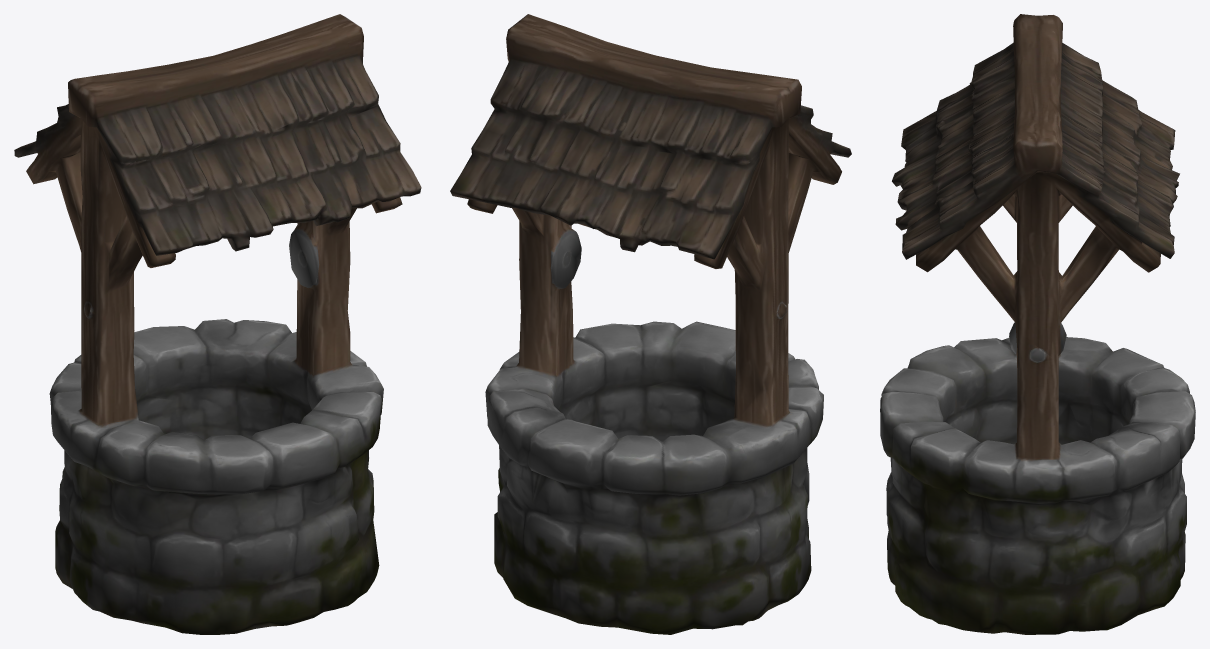
File: well.glb
3 views of the same model, side by side, from view 1: azimuth 30°, elevation 25°; view 2: azimuth 150°, elevation 25°; view 3: azimuth 270°, elevation 25° (orthographic). The views are drawn at different scales.
Visible parts, largest first — view 1: well; view 2: well; view 3: well.
Boxes of the visible parts, box(x1,y1,x2,y2) form: well: box(14, 14, 421, 634); well: box(450, 14, 851, 634); well: box(880, 14, 1195, 634).
Size of the model in its own units: 1.61 by 2.75 by 1.59.
1 material, 1 textured.
